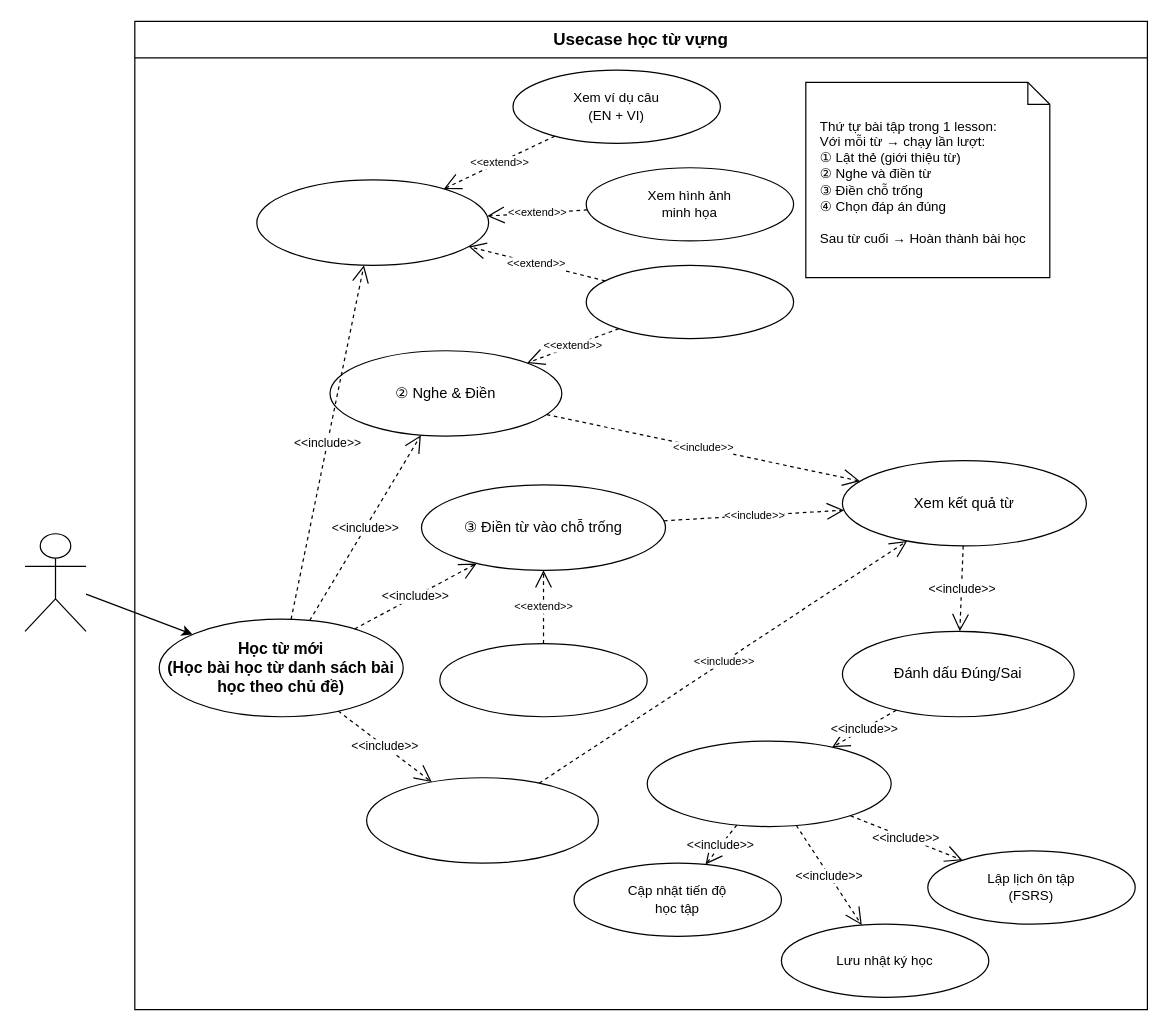
Some shapes in this 1169 by 1031 pixel diagram are drawn without their labels. The centre of each missing label's shape, as x and y in pixels:
Hoàn thành bài học: pixel 768 783
Nghe phát âm (TTS / Audio): pixel 689 301
Người học: pixel 55 582
Xem phiên âm: pixel 543 679
① Lật thẻ: pixel 372 222
④ Chọn nghĩa của từ đúng: pixel 481 820
